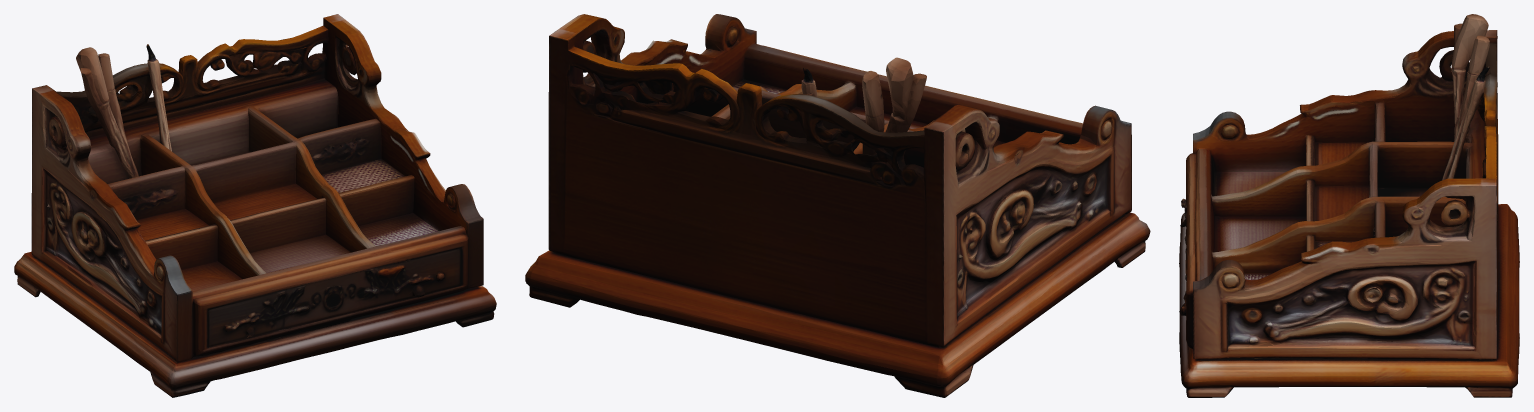
Rendered from wooden-tabletop-organizer-3d.jpeg.glb.
The picture shows the model from 3 angles, left to right: view 1: azimuth 30°, elevation 25°; view 2: azimuth 150°, elevation 25°; view 3: azimuth 270°, elevation 25°; orthographic projection. The views are drawn at different scales.
Parts seen in each view (by area): view 1: world; view 2: world; view 3: world.
Part boxes in pixels (box(x1,y1,x2,y2)): world: box(14, 14, 496, 397); world: box(525, 14, 1150, 397); world: box(1179, 14, 1519, 397).
Bounding box in the file's own units: 0.987 × 0.678 × 0.8497.
Materials: 1 (1 with a texture image).
